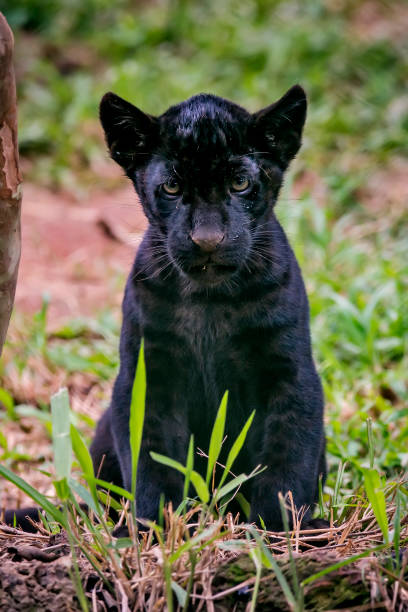panther: (90, 77, 323, 300)
